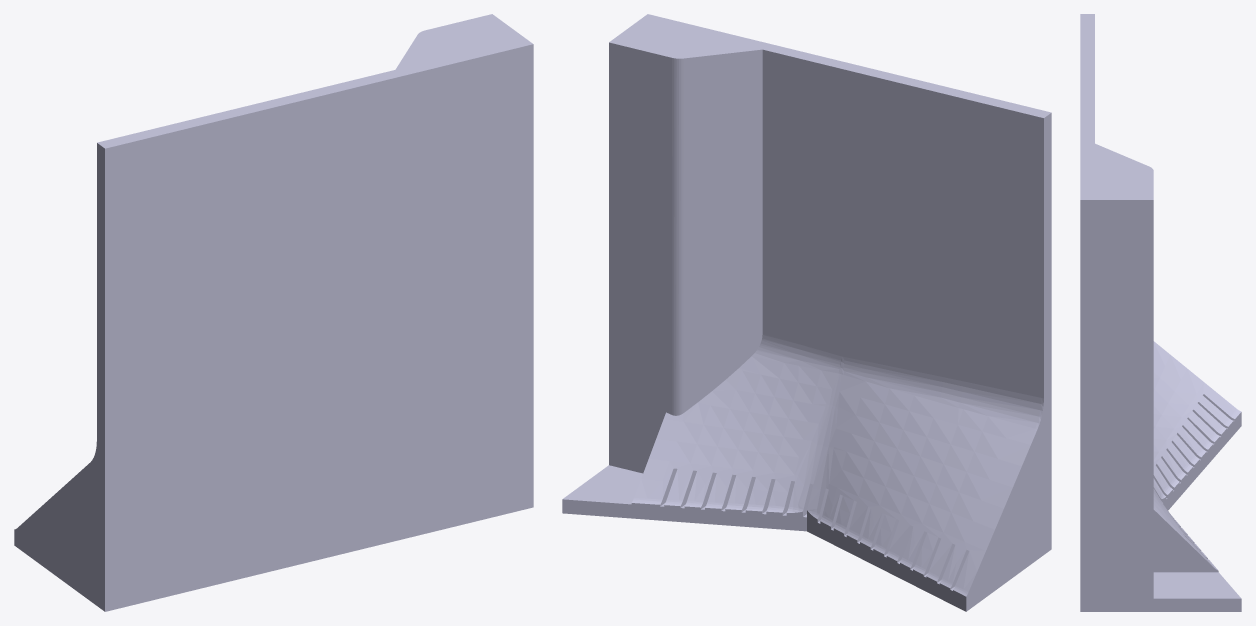
File: Parte_1.dae
The picture shows the model from 3 angles, left to right: view 1: azimuth 30°, elevation 25°; view 2: azimuth 150°, elevation 25°; view 3: azimuth 270°, elevation 25°; orthographic projection. The views are drawn at different scales.
Visible parts, largest first — view 1: node0; view 2: node0; view 3: node0.
Part boxes in pixels (x1,y1,x2,y2): node0: (14,14,533,611); node0: (562,14,1051,611); node0: (1080,14,1241,611).
Bounding box in the file's own units: 30 × 11 × 31.
